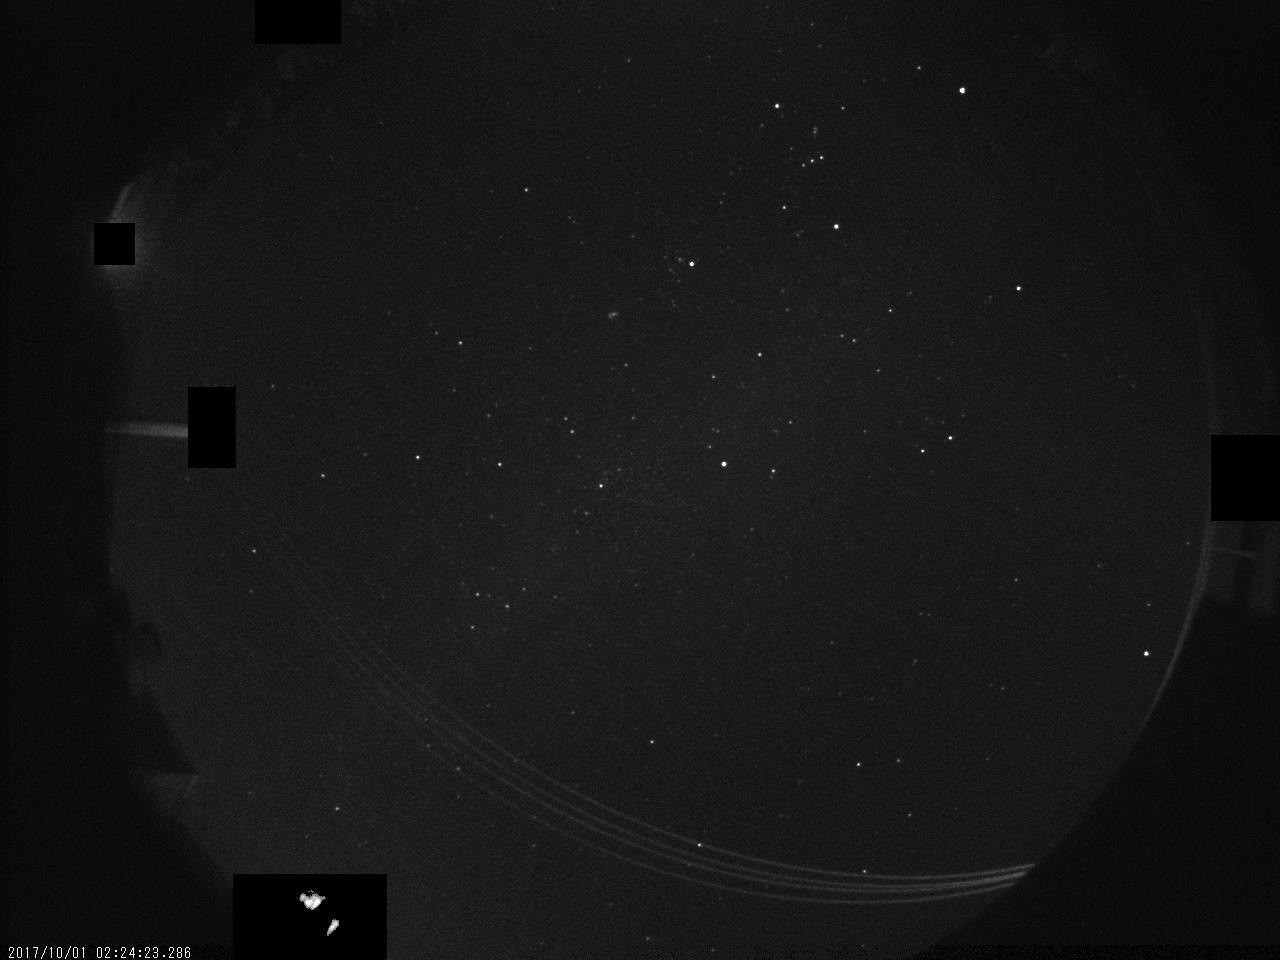TLE: (289, 871, 349, 942)
